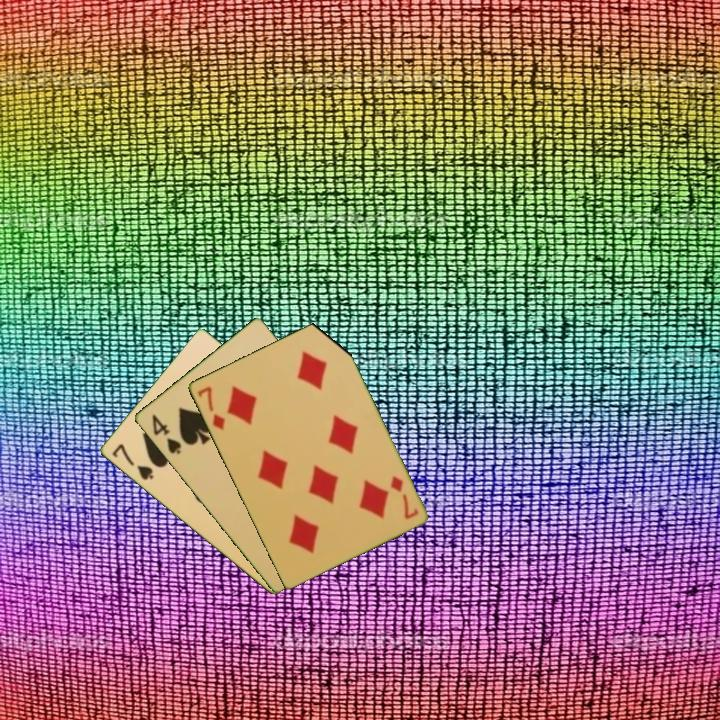4s: (148, 410, 184, 457)
7d: (386, 472, 421, 522), (193, 383, 228, 432)
7s: (108, 440, 156, 483)
